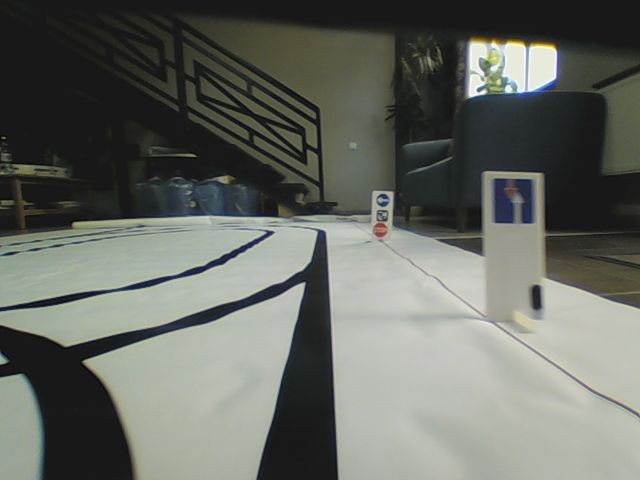priority_movement: (488, 177, 537, 226)
